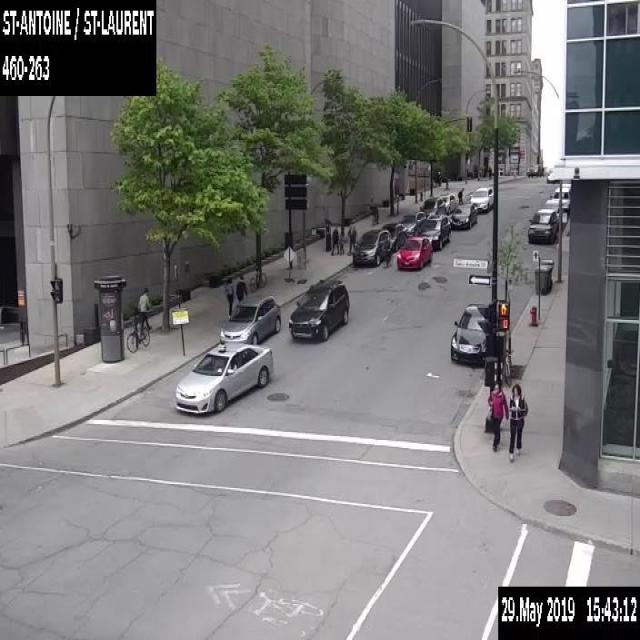cyclist: (380, 235, 393, 268)
pedestrian: (507, 382, 528, 461), (487, 382, 509, 452), (136, 287, 151, 337), (225, 275, 235, 316), (235, 274, 247, 302), (346, 221, 356, 254), (330, 224, 338, 254), (456, 185, 464, 203), (338, 232, 344, 254), (486, 167, 491, 180)
vehicle: (173, 340, 272, 412), (288, 276, 349, 341), (219, 294, 281, 344), (449, 303, 492, 365), (352, 228, 392, 264), (396, 235, 432, 268), (418, 213, 450, 249), (527, 208, 557, 242), (448, 202, 478, 229), (381, 221, 407, 250), (398, 210, 426, 235), (543, 198, 567, 226), (469, 184, 493, 210), (418, 196, 444, 218), (549, 186, 571, 209), (438, 191, 458, 214), (527, 163, 541, 175), (546, 167, 554, 182)
